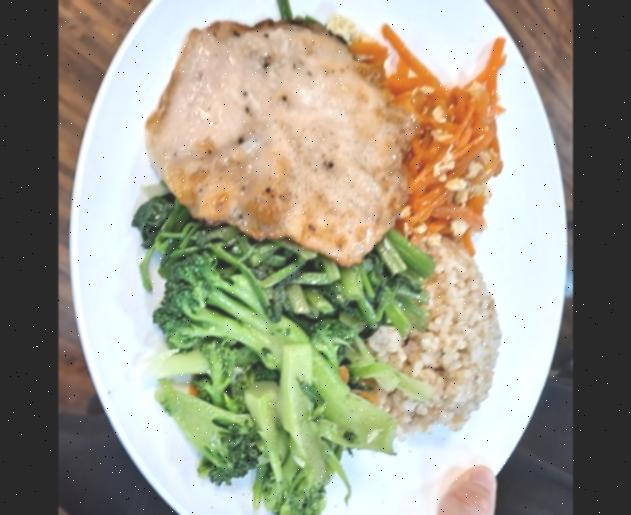brown rice: (382, 234, 501, 434)
grilled chicken steak: (144, 20, 408, 266)
plate: (66, 0, 561, 515)
side dish: (156, 266, 398, 515), (135, 199, 425, 330), (355, 27, 508, 241)
